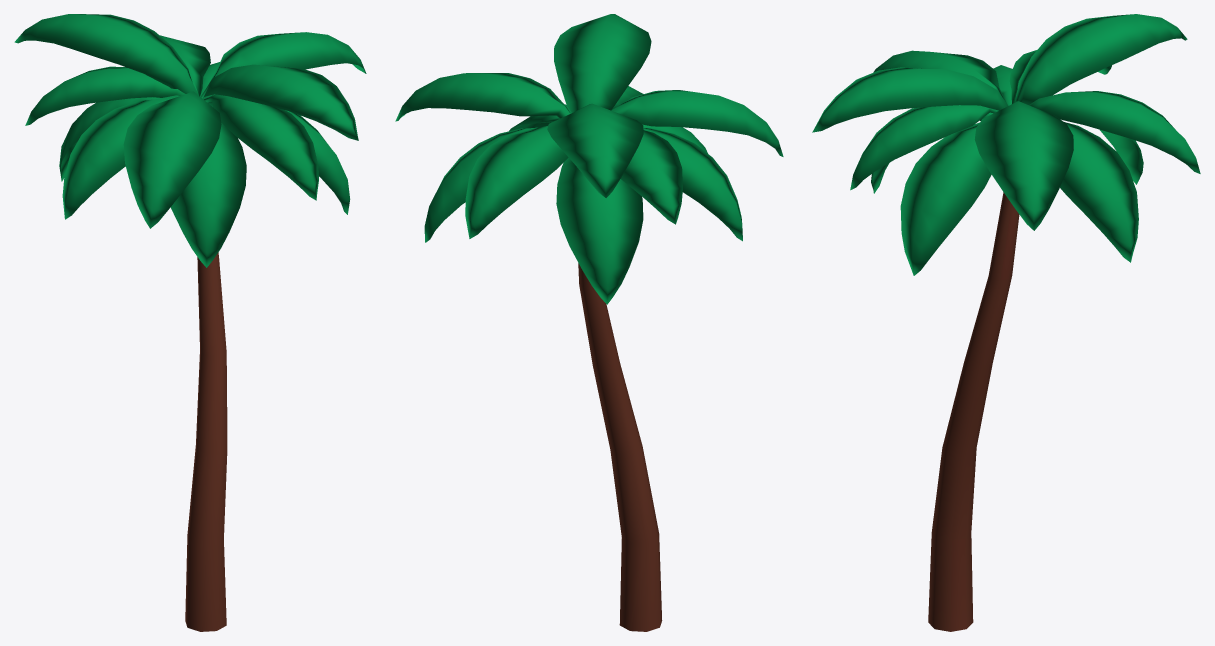
The model's file is Palm.fbx.
3 views of the same model, side by side, from view 1: azimuth 30°, elevation 25°; view 2: azimuth 150°, elevation 25°; view 3: azimuth 270°, elevation 25° (orthographic). The views are drawn at different scales.
Visible parts, largest first — view 1: Palm; view 2: Palm; view 3: Palm.
Part boxes in pixels (bbox=[...]): Palm: bbox=[14, 14, 366, 631]; Palm: bbox=[395, 14, 783, 631]; Palm: bbox=[812, 14, 1200, 631].
Size of the model in its own units: 2.98 by 4.95 by 2.97.
